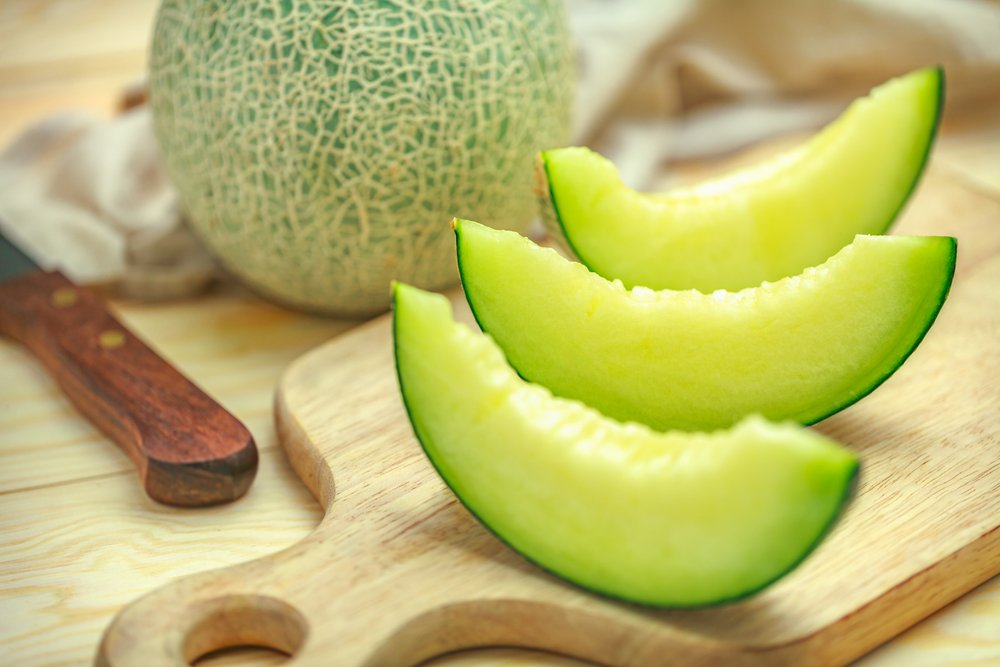Melon: (340, 355, 852, 616), (540, 39, 950, 291), (459, 220, 953, 395)
